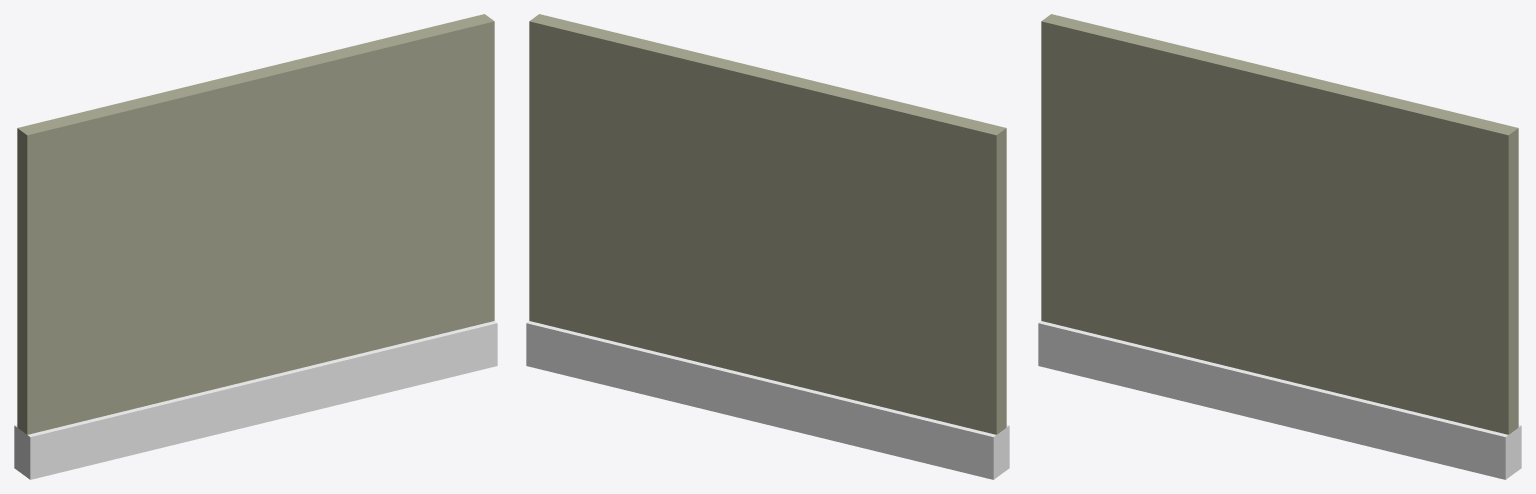
Rendered from wall_Asset.fbx.
The picture shows the model from 3 angles, left to right: view 1: azimuth 30°, elevation 25°; view 2: azimuth 150°, elevation 25°; view 3: azimuth 330°, elevation 25°; orthographic projection.
Visible parts, largest first — view 1: Wall; view 2: Wall; view 3: Wall.
Boxes of the visible parts, box(x1,y1,x2,y2) form: Wall: box(14, 14, 497, 479); Wall: box(526, 14, 1009, 479); Wall: box(1038, 14, 1521, 479).
Size of the model in its own units: 500 by 350 by 30.
